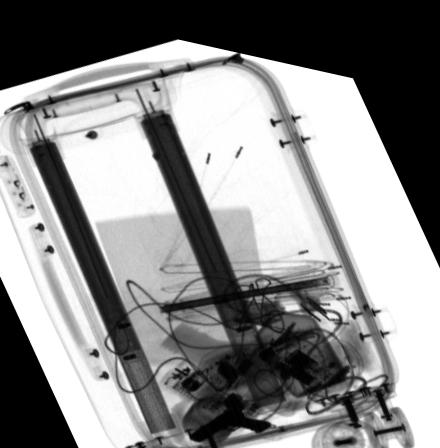Gun: (188, 396, 273, 431)
